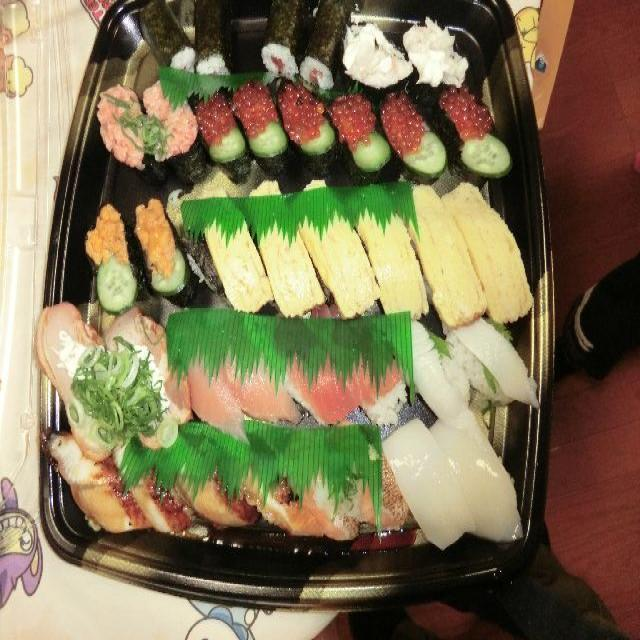Sushi: (80, 45, 504, 522)
